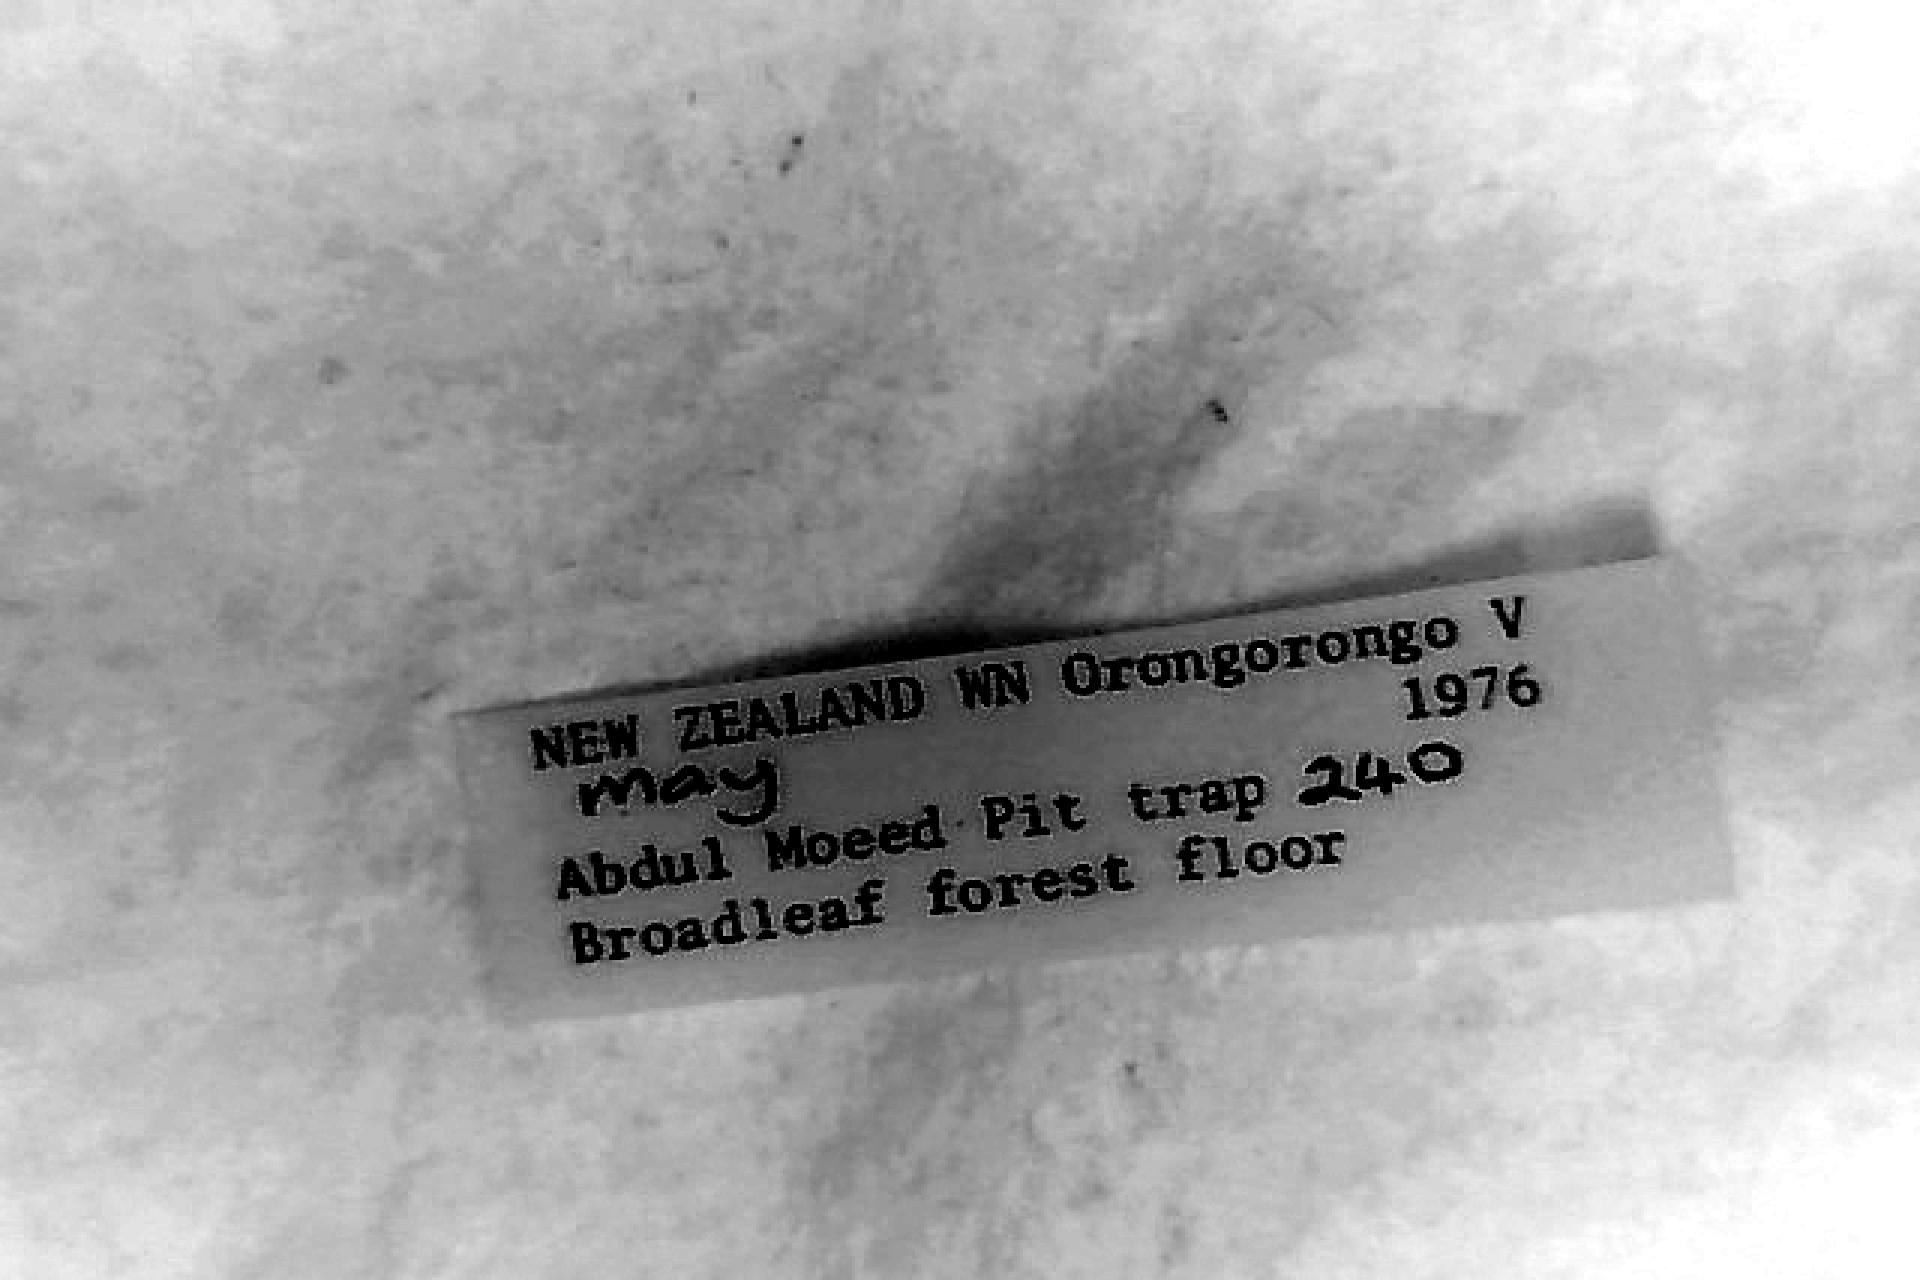mixed_label: (461, 560, 1726, 1014)
